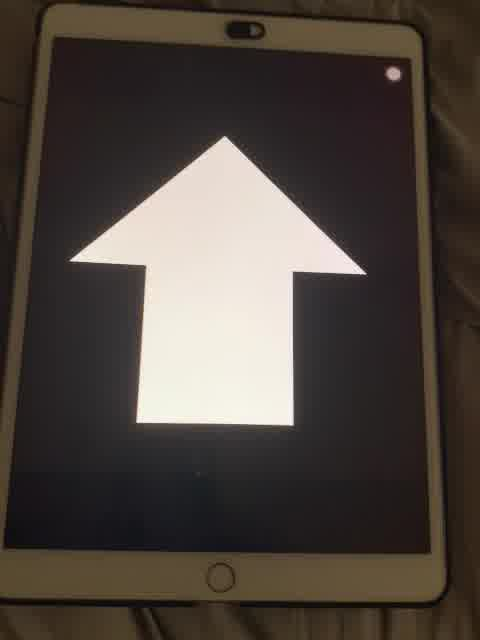up: (52, 127, 368, 430)
